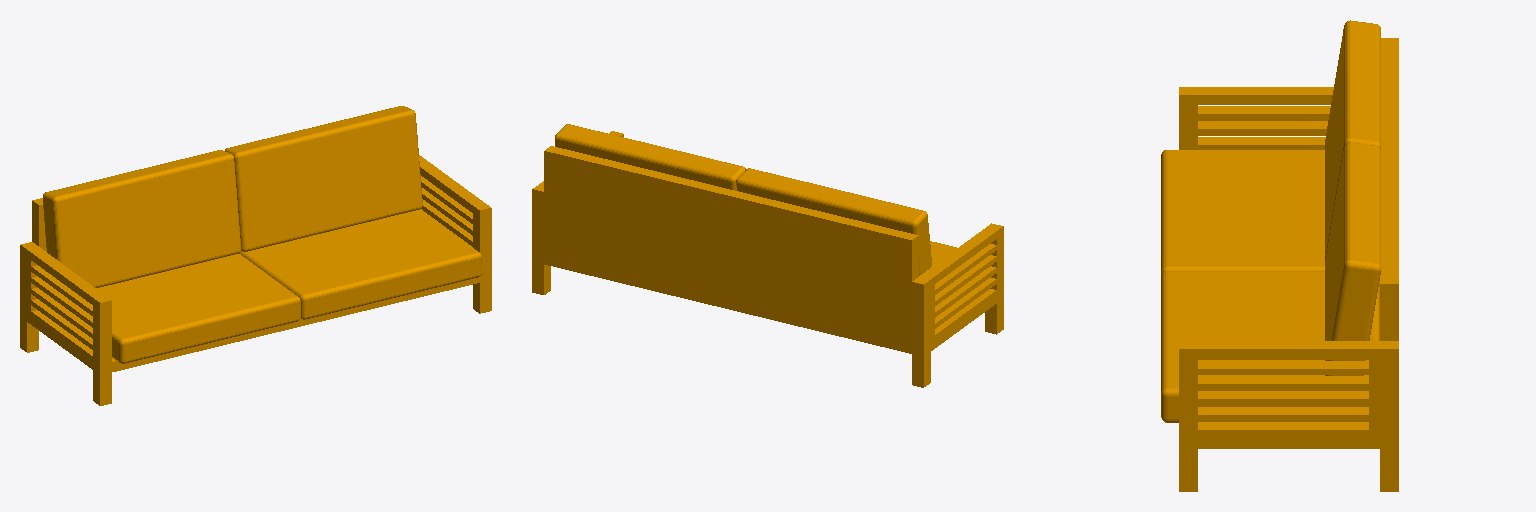
URDF robot description (1d8716f741424998f29666f384be6c43):
<?xml version="1.0" ?>
<robot name="1d8716f741424998f29666f384be6c43" version="1.0">
  <link name="base_link">
    <inertial>
      <origin rpy="0.0 0.0 0.0" xyz="0.0 0.0 0.0"/>
      <mass value="20.154801296639153"/>
      <inertia ixx="0.001" ixy="0.0" ixz="0.0" iyy="0.001" iyz="0.0" izz="0.001"/>
    </inertial>
    <visual name="1d8716f741424998f29666f384be6c43___2">
      <origin rpy="0.0 0.0 0.0" xyz="0.0 -0.0 0.0"/>
      <geometry>
        <mesh filename="shape/visual/1d8716f741424998f29666f384be6c43_m2_vm.obj"/>
      </geometry>
    </visual>
    <visual name="1d8716f741424998f29666f384be6c43___1">
      <origin rpy="0.0 0.0 0.0" xyz="0.0 -0.0 0.0"/>
      <geometry>
        <mesh filename="shape/visual/1d8716f741424998f29666f384be6c43_m1_vm.obj"/>
      </geometry>
    </visual>
    <collision>
      <origin rpy="0.0 0.0 0.0" xyz="0.0 -0.0 0.0"/>
      <geometry>
        <mesh filename="shape/collision/1d8716f741424998f29666f384be6c43_cm.obj"/>
      </geometry>
    </collision>
  </link>
</robot>

--- What the picture shows (computed from the rendered views, not written in the file) ---
The picture shows the robot from 3 angles, left to right: view 1: azimuth 30°, elevation 25°; view 2: azimuth 150°, elevation 25°; view 3: azimuth 270°, elevation 25°; orthographic projection.
Model 1d8716f741424998f29666f384be6c43 with 1 links and 0 joints (none), rooted at base_link, posed all joints at 0.
Visible links, largest first — view 1: base_link; view 2: base_link; view 3: base_link.
Link boxes in pixels (<box>): base_link: <box>20,106,491,405</box>; base_link: <box>532,124,1003,387</box>; base_link: <box>1161,20,1398,491</box>.
Size in the robot's own frame: 0.8777 by 0.3353 by 0.3425 metres.
2 mesh visuals loaded from 2 distinct referenced files (2 OBJ).